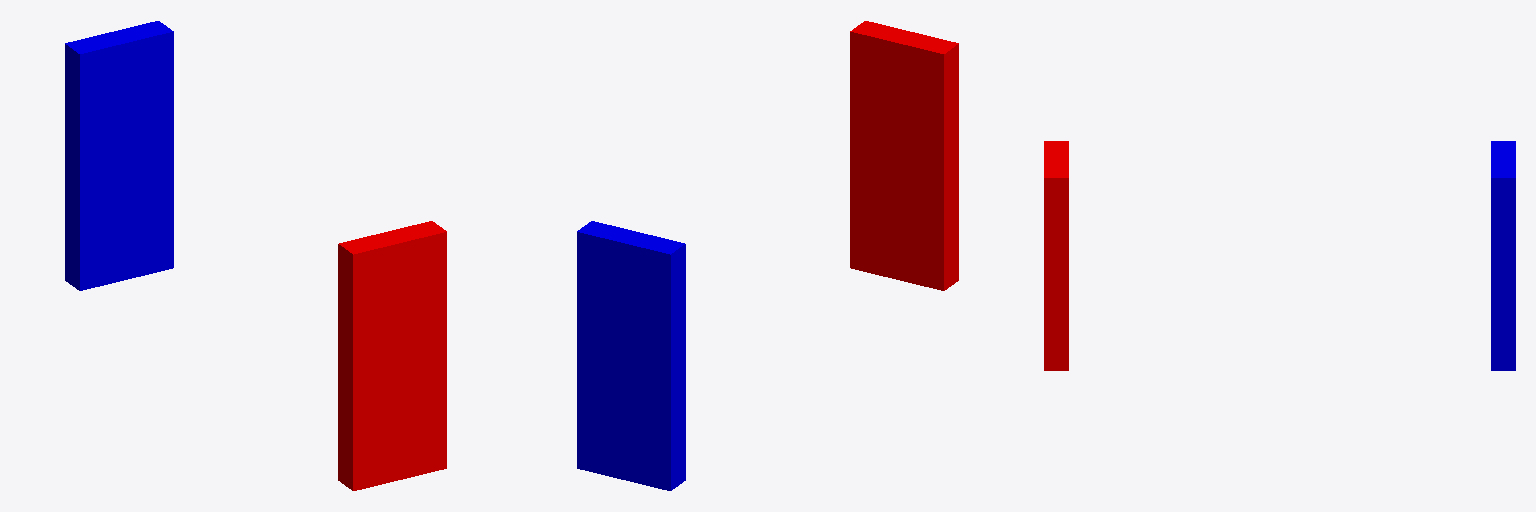
robot.urdf — franka_robotiq_140:
<?xml version="1.0" ?>
<!-- =================================================================================== -->
<!-- |    This document was autogenerated by xacro from sisbot.xacro                   | -->
<!-- |    EDITING THIS FILE BY HAND IS NOT RECOMMENDED                                 | -->
<!-- =================================================================================== -->
<robot name="franka_robotiq_140" xmlns:xacro="http://ros.org/wiki/xacro">
  <!--################################################
  ########              arm                    #######
  ####################################################-->

  <link name="panda_link0">
  	<inertial>
      <origin rpy="0 0 0" xyz="0 0 0.05"/>
       <mass value="2.9"/>
       <inertia ixx="0.1" ixy="0" ixz="0" iyy="0.1" iyz="0" izz="0.1"/>
    </inertial>
    <visual>
      <geometry>
        <mesh filename="package://meshes/collision/link0.obj"/>
      </geometry>
      <material name="panda_white">
    		<color rgba="1. 1. 1. 1."/>
  		</material>
    </visual>
    <collision>
      <geometry>
        <mesh filename="package://meshes/collision/link0.obj"/>
      </geometry>
      <material name="panda_white"/>
    </collision>
  </link>
  <link name="panda_link1">
  	<inertial>
      <origin rpy="0 0 0" xyz="0 -0.04 -0.05"/>
       <mass value="2.7"/>
       <inertia ixx="0.1" ixy="0" ixz="0" iyy="0.1" iyz="0" izz="0.1"/>
    </inertial>
    <visual>
      <geometry>
        <mesh filename="package://meshes/visual/link1.obj"/>
      </geometry>
      <material name="panda_white"/>
    </visual>
    <collision>
      <geometry>
        <mesh filename="package://meshes/collision/link1.obj"/>
      </geometry>
      <material name="panda_white"/>
    </collision>
  </link>
  <joint name="panda_joint1" type="revolute">
    <safety_controller k_position="100.0" k_velocity="40.0" soft_lower_limit="-2.8973" soft_upper_limit="2.8973"/>
    <origin rpy="0 0 0" xyz="0 0 0.333"/>
    <parent link="panda_link0"/>
    <child link="panda_link1"/>
    <axis xyz="0 0 1"/>
    <limit effort="87" lower="-2.9671" upper="2.9671" velocity="2.1750"/>
  </joint>
  <link name="panda_link2">
  	<inertial>
      <origin rpy="0 0 0" xyz="0 -0.04 0.06"/>
       <mass value="2.73"/>
       <inertia ixx="0.1" ixy="0" ixz="0" iyy="0.1" iyz="0" izz="0.1"/>
    </inertial>
    <visual>
      <geometry>
        <mesh filename="package://meshes/visual/link2.obj"/>
      </geometry>
      <material name="panda_white"/>
    </visual>
    <collision>
      <geometry>
        <mesh filename="package://meshes/collision/link2.obj"/>
      </geometry>
      <material name="panda_white"/>
    </collision>
  </link>
  <joint name="panda_joint2" type="revolute">
    <safety_controller k_position="100.0" k_velocity="40.0" soft_lower_limit="-1.7628" soft_upper_limit="1.7628"/>
    <origin rpy="-1.57079632679 0 0" xyz="0 0 0"/>
    <parent link="panda_link1"/>
    <child link="panda_link2"/>
    <axis xyz="0 0 1"/>
    <limit effort="87" lower="-1.8326" upper="1.8326" velocity="2.1750"/>
  </joint>
  <link name="panda_link3">
	  <inertial>
      <origin rpy="0 0 0" xyz="0.01 0.01 -0.05"/>
       <mass value="2.04"/>
       <inertia ixx="0.1" ixy="0" ixz="0" iyy="0.1" iyz="0" izz="0.1"/>
    </inertial>
    <visual>
      <geometry>
        <mesh filename="package://meshes/visual/link3.obj"/>
      </geometry>
      <material name="panda_red">
    		<color rgba="1. 1. 1. 1."/>
  		</material>
    </visual>
    <collision>
      <geometry>
        <mesh filename="package://meshes/collision/link3.obj"/>
      </geometry>
    </collision>
  </link>
  <joint name="panda_joint3" type="revolute">
    <safety_controller k_position="100.0" k_velocity="40.0" soft_lower_limit="-2.8973" soft_upper_limit="2.8973"/>
    <origin rpy="1.57079632679 0 0" xyz="0 -0.316 0"/>
    <parent link="panda_link2"/>
    <child link="panda_link3"/>
    <axis xyz="0 0 1"/>
    <limit effort="87" lower="-2.9671" upper="2.9671" velocity="2.1750"/>
  </joint>
  <link name="panda_link4">
  	<inertial>
      <origin rpy="0 0 0" xyz="-0.03 0.03 0.02"/>
       <mass value="2.08"/>
       <inertia ixx="0.1" ixy="0" ixz="0" iyy="0.1" iyz="0" izz="0.1"/>
    </inertial>
    <visual>
      <geometry>
        <mesh filename="package://meshes/visual/link4.obj"/>
      </geometry>
      <material name="panda_white"/>
    </visual>
    <collision>
      <geometry>
        <mesh filename="package://meshes/collision/link4.obj"/>
      </geometry>
      <material name="panda_white"/>
    </collision>
  </link>
  <joint name="panda_joint4" type="revolute">
    <safety_controller k_position="100.0" k_velocity="40.0" soft_lower_limit="-3.0718" soft_upper_limit="-0.0698"/>
    <origin rpy="1.57079632679 0 0" xyz="0.0825 0 0"/>
    <parent link="panda_link3"/>
    <child link="panda_link4"/>
    <axis xyz="0 0 1"/>
    <limit effort="87" lower="-3.1416" upper="0.0" velocity="2.1750"/>
  </joint>
  <link name="panda_link5">
  	<inertial>
      <origin rpy="0 0 0" xyz="0 0.04 -0.12"/>
       <mass value="3"/>
       <inertia ixx="0.1" ixy="0" ixz="0" iyy="0.1" iyz="0" izz="0.1"/>
    </inertial>
    <visual>
      <geometry>
        <mesh filename="package://meshes/visual/link5.obj"/>
      </geometry>
      <material name="panda_white"/>
    </visual>
    <collision>
      <geometry>
        <mesh filename="package://meshes/collision/link5.obj"/>
      </geometry>
      <material name="panda_white"/>
    </collision>
  </link>
  <joint name="panda_joint5" type="revolute">
    <safety_controller k_position="100.0" k_velocity="40.0" soft_lower_limit="-2.8973" soft_upper_limit="2.8973"/>
    <origin rpy="-1.57079632679 0 0" xyz="-0.0825 0.384 0"/>
    <parent link="panda_link4"/>
    <child link="panda_link5"/>
    <axis xyz="0 0 1"/>
    <limit effort="12" lower="-2.9671" upper="2.9671" velocity="2.6100"/>
  </joint>
  <link name="panda_link6">
  	<inertial>
      <origin rpy="0 0 0" xyz="0.04 0 0"/>
       <mass value="1.3"/>
       <inertia ixx="0.1" ixy="0" ixz="0" iyy="0.1" iyz="0" izz="0.1"/>
    </inertial>
    <visual>
      <geometry>
        <mesh filename="package://meshes/visual/link6.obj"/>
      </geometry>
      <material name="panda_white"/>
    </visual>
    <collision>
      <geometry>
        <mesh filename="package://meshes/collision/link6.obj"/>
      </geometry>
      <material name="panda_white"/>
    </collision>
  </link>
  <joint name="panda_joint6" type="revolute">
    <safety_controller k_position="100.0" k_velocity="40.0" soft_lower_limit="-0.0175" soft_upper_limit="3.7525"/>
    <origin rpy="1.57079632679 0 0" xyz="0 0 0"/>
    <parent link="panda_link5"/>
    <child link="panda_link6"/>
    <axis xyz="0 0 1"/>
    <limit effort="12" lower="-0.0873" upper="3.8223" velocity="2.6100"/>
  </joint>
  <link name="panda_link7">
  	<inertial>
      <origin rpy="0 0 0" xyz="0 0 0.08"/>
       <mass value=".2"/>
       <inertia ixx="0.1" ixy="0" ixz="0" iyy="0.1" iyz="0" izz="0.1"/>
    </inertial>
    <visual>
      <geometry>
        <mesh filename="package://meshes/collision/link7.obj"/>
      </geometry>
      <material name="panda_white"/>
    </visual>
    <collision>
      <geometry>
        <mesh filename="package://meshes/collision/link7.obj"/>
      </geometry>
      <material name="panda_white"/>
    </collision>
  </link>
  <joint name="panda_joint7" type="revolute">
    <safety_controller k_position="100.0" k_velocity="40.0" soft_lower_limit="-2.8973" soft_upper_limit="2.8973"/>
    <origin rpy="1.57079632679 0 0" xyz="0.088 0 0"/>
    <parent link="panda_link6"/>
    <child link="panda_link7"/>
    <axis xyz="0 0 1"/>
    <limit effort="12" lower="-2.9671" upper="2.9671" velocity="2.6100"/>
  </joint>
  <link name="panda_link8">
  	 <inertial>
      <origin rpy="0 0 0" xyz="0 0 0"/>
       <mass value="0.0"/>
       <inertia ixx="0.1" ixy="0" ixz="0" iyy="0.1" iyz="0" izz="0.1"/>
    </inertial>
  </link>
  <joint name="panda_joint8" type="fixed">
    <origin rpy="0 0 0" xyz="0 0 0.107"/>
    <parent link="panda_link7"/>
    <child link="panda_link8"/>
    <axis xyz="0 0 0"/>
  </joint>



  <!--################################################
  ########              gripper                  #####
  ####################################################-->

  <link name="robotiq_arg2f_base_link">
    <inertial>
      <origin rpy="0 0 0" xyz="8.625E-08 -4.6583E-06 0.03145"/>
      <mass value="0.22652"/>
      <inertia ixx="0.00020005" ixy="-4.2442E-10" ixz="-2.9069E-10" iyy="0.00017832" iyz="-3.4402E-08" izz="0.00013478"/>
    </inertial>
    <visual>
      <origin rpy="0 0 0" xyz="0 0 0"/>
      <geometry>
        <mesh filename="../meshes/robotiq_140/visual/robotiq_arg2f_base_link.stl"/>
      </geometry>
      <material name="">
        <color rgba="0.1 0.1 0.1 1"/>
      </material>
    </visual>
    <collision>
      <origin rpy="0 0 0" xyz="0 0 0"/>
      <geometry>
        <mesh filename="../meshes/robotiq_140/collision/robotiq_arg2f_base_link.stl"/>
      </geometry>
    </collision>
  </link>
  <link name="left_outer_knuckle">
    <inertial>
      <origin rpy="0 0 0" xyz="-0.000200000000003065 0.0199435877845359 0.0292245259211331"/>
      <mass value="0.00853198276973456"/>
      <inertia ixx="2.89328108496468E-06" ixy="-1.57935047237397E-19" ixz="-1.93980378593255E-19" iyy="1.86719750325683E-06" iyz="-1.21858577871576E-06" izz="1.21905238907251E-06"/>
    </inertial>
    <visual>
      <origin rpy="0 0 0" xyz="0 0 0"/>
      <geometry>
        <mesh filename="../meshes/robotiq_140/visual/robotiq_arg2f_140_outer_knuckle.stl"/>
      </geometry>
      <material name="">
        <color rgba="0.792156862745098 0.819607843137255 0.933333333333333 0.1"/>
      </material>
    </visual>
    <collision>
      <origin rpy="0 0 0" xyz="0 0 0"/>
      <geometry>
        <mesh filename="../meshes/robotiq_140/collision/robotiq_arg2f_140_outer_knuckle.stl"/>
      </geometry>
    </collision>
  </link>
  <link name="left_outer_finger">
    <inertial>
      <origin rpy="0 0 0" xyz="0.00030115855001899 0.0373907951953854 -0.0208027427000385"/>
      <mass value="0.022614240507152"/>
      <inertia ixx="1.52518312458174E-05" ixy="9.76583423954399E-10" ixz="-5.43838577022588E-10" iyy="6.17694243867776E-06" iyz="6.78636130740228E-06" izz="1.16494917907219E-05"/>
    </inertial>
    <visual>
      <origin rpy="0 0 0" xyz="0 0 0"/>
      <geometry>
        <mesh filename="../meshes/robotiq_140/visual/robotiq_arg2f_140_outer_finger.stl"/>
      </geometry>
      <material name="">
        <color rgba="0.1 0.1 0.1 0.2"/>
      </material>
    </visual>
    <collision>
      <origin rpy="0 0 0" xyz="0 0 0"/>
      <geometry>
        <mesh filename="../meshes/robotiq_140/collision/robotiq_arg2f_140_outer_finger.stl"/>
      </geometry>
    </collision>
  </link>
  <link name="left_inner_finger">
    <inertial>
      <origin rpy="0 0 0" xyz="0.000299999999999317 0.0160078233491243 -0.0136945669206257"/>
      <mass value="0.0104003125914103"/>
      <inertia ixx="2.71909453810972E-06" ixy="1.35402465472579E-21" ixz="-7.1817349065269E-22" iyy="7.69100314106116E-07" iyz="6.74715432769696E-07" izz="2.30315190420171E-06"/>
    </inertial>
    <visual>
      <origin rpy="0 0 0" xyz="0 0 0"/>
      <geometry>
        <mesh filename="../meshes/robotiq_140/visual/robotiq_arg2f_140_inner_finger.stl"/>
      </geometry>
      <material name="Green">
        <color rgba="0.9 0.7 0.2 0.3"/>
      </material>
    </visual>
    <collision>
      <origin rpy="0 0 0" xyz="0 0 0"/>
      <geometry>
        <mesh filename="../meshes/robotiq_140/collision/robotiq_arg2f_140_inner_finger.stl"/>
      </geometry>
    </collision>
  </link>
  <link name="left_inner_finger_pad">
    <inertial>
      <mass value="1."/>
      <inertia ixx="1E-10" ixy="1E-10" ixz="1E-10" iyy="1E-10" iyz="1E-10" izz="1E-10"/>
    </inertial>

    <visual>
      <origin rpy="0 0 0" xyz="0 0 0"/>
      <geometry>
        <box size="0.027 0.065 0.0075"/>
      </geometry>
      <material name="">
        <color rgba="0 0 1 1"/>
      </material>
    </visual>
    <collision>
      <origin rpy="0 0 0" xyz="0 0 0"/>
      <geometry>
        <box size="0.03 0.07 0.0075"/>
      </geometry>
      <material name="">
        <color rgba="0.9 0.0 0.0 1"/>
      </material>
    </collision>
  </link>
  <link name="left_inner_knuckle">
    <inertial>
      <origin rpy="0 0 0" xyz="0.000123011831763771 0.0507850843201817 0.00103968640075166"/>
      <mass value="0.0271177346495152"/>
      <inertia ixx="2.61910379223783E-05" ixy="-2.43616858946494E-07" ixz="-6.37789906117123E-09" iyy="2.8270243746167E-06" iyz="-5.37200748039765E-07" izz="2.83695868220296E-05"/>
    </inertial>
    <visual>
      <origin rpy="0 0 0" xyz="0 0 0"/>
      <geometry>
        <mesh filename="../meshes/robotiq_140/visual/robotiq_arg2f_140_inner_knuckle.stl"/>
      </geometry>
      <material name="">
        <color rgba="0.1 0.1 0.1 1"/>
      </material>
    </visual>
    <collision>
      <origin rpy="0 0 0" xyz="0 0 0"/>
      <geometry>
        <mesh filename="../meshes/robotiq_140/collision/robotiq_arg2f_140_inner_knuckle.stl"/>
      </geometry>
    </collision>
  </link>
  <link name="right_outer_knuckle">
    <inertial>
      <origin rpy="0 0 0" xyz="-0.000200000000003065 0.0199435877845359 0.0292245259211331"/>
      <mass value="0.00853198276973456"/>
      <inertia ixx="2.89328108496468E-06" ixy="-1.57935047237397E-19" ixz="-1.93980378593255E-19" iyy="1.86719750325683E-06" iyz="-1.21858577871576E-06" izz="1.21905238907251E-06"/>
    </inertial>
    <visual>
      <origin rpy="0 0 0" xyz="0 0 0"/>
      <geometry>
        <mesh filename="../meshes/robotiq_140/visual/robotiq_arg2f_140_outer_knuckle.stl"/>
      </geometry>
      <material name="">
        <color rgba="0.792156862745098 0.819607843137255 0.933333333333333 1"/>
      </material>
    </visual>
    <collision>
      <origin rpy="0 0 0" xyz="0 0 0"/>
      <geometry>
        <mesh filename="../meshes/robotiq_140/collision/robotiq_arg2f_140_outer_knuckle.stl"/>
      </geometry>
    </collision>
  </link>
  <link name="right_outer_finger">
    <inertial>
      <origin rpy="0 0 0" xyz="0.00030115855001899 0.0373907951953854 -0.0208027427000385"/>
      <mass value="0.022614240507152"/>
      <inertia ixx="1.52518312458174E-05" ixy="9.76583423954399E-10" ixz="-5.43838577022588E-10" iyy="6.17694243867776E-06" iyz="6.78636130740228E-06" izz="1.16494917907219E-05"/>
    </inertial>
    <visual>
      <origin rpy="0 0 0" xyz="0 0 0"/>
      <geometry>
        <mesh filename="../meshes/robotiq_140/visual/robotiq_arg2f_140_outer_finger.stl"/>
      </geometry>
      <material name="">
        <color rgba="0.1 0.1 0.1 1"/>
      </material>
    </visual>
    <collision>
      <origin rpy="0 0 0" xyz="0 0 0"/>
      <geometry>
        <mesh filename="../meshes/robotiq_140/collision/robotiq_arg2f_140_outer_finger.stl"/>
      </geometry>
    </collision>
  </link>
  <link name="right_inner_finger">
    <inertial>
      <origin rpy="0 0 0" xyz="0.000299999999999317 0.0160078233491243 -0.0136945669206257"/>
      <mass value="0.0104003125914103"/>
      <inertia ixx="2.71909453810972E-06" ixy="1.35402465472579E-21" ixz="-7.1817349065269E-22" iyy="7.69100314106116E-07" iyz="6.74715432769696E-07" izz="2.30315190420171E-06"/>
    </inertial>
    <visual>
      <origin rpy="0 0 0" xyz="0 0 0"/>
      <geometry>
        <mesh filename="../meshes/robotiq_140/visual/robotiq_arg2f_140_inner_finger.stl"/>
      </geometry>
      <material name="Yellow">
        <color rgba="0.2 0.7 0.2 1"/>
      </material>
    </visual>
    <collision>
      <origin rpy="0 0 0" xyz="0 0 0"/>
      <geometry>
        <mesh filename="../meshes/robotiq_140/collision/robotiq_arg2f_140_inner_finger.stl"/>
      </geometry>
    </collision>
  </link>
  <link name="right_inner_finger_pad">
    <inertial>
      <mass value="1."/>
      <inertia ixx="1E-10" ixy="1E-10" ixz="1E-10" iyy="1E-10" iyz="1E-10" izz="1E-10"/>
    </inertial>

    <visual>
      <origin rpy="0 0 0" xyz="0 0 0"/>
      <geometry>
        <box size="0.027 0.065 0.0075"/>
      </geometry>
      <material name="">
        <color rgba="1 0 0 1"/>
      </material>
    </visual>
    <collision>
      <origin rpy="0 0 0" xyz="0 0 0"/>
      <geometry>
        <box size="0.03 0.07 0.0075"/>
      </geometry>
      <material name="">
        <color rgba="0.9 0.0 0.0 1"/>
      </material>
    </collision>
  </link>
  <link name="right_inner_knuckle">
    <inertial>
      <origin rpy="0 0 0" xyz="0.000123011831763771 0.0507850843201817 0.00103968640075166"/>
      <mass value="0.0271177346495152"/>
      <inertia ixx="2.61910379223783E-05" ixy="-2.43616858946494E-07" ixz="-6.37789906117123E-09" iyy="2.8270243746167E-06" iyz="-5.37200748039765E-07" izz="2.83695868220296E-05"/>
    </inertial>
    <visual>
      <origin rpy="0 0 0" xyz="0 0 0"/>
      <geometry>
        <mesh filename="../meshes/robotiq_140/visual/robotiq_arg2f_140_inner_knuckle.stl"/>
      </geometry>
      <material name="">
        <color rgba="0.1 0.1 0.1 1"/>
      </material>
    </visual>
    <collision>
      <origin rpy="0 0 0" xyz="0 0 0"/>
      <geometry>
        <mesh filename="../meshes/robotiq_140/collision/robotiq_arg2f_140_inner_knuckle.stl"/>
      </geometry>
    </collision>
  </link>
  <joint name="finger_joint" type="revolute">
    <origin rpy="2.2957963267948966 0 0" xyz="0 -0.030601 0.054905"/>
    <parent link="robotiq_arg2f_base_link"/>
    <child link="left_outer_knuckle"/>
    <axis xyz="-1 0 0"/>
    <limit effort="1000" lower="0" upper="0.7" velocity="2.0"/>
  </joint>
  <joint name="left_outer_finger_joint" type="fixed">
    <origin rpy="0 0 0" xyz="0 0.01821998610742 0.0260018192872234"/>
    <parent link="left_outer_knuckle"/>
    <child link="left_outer_finger"/>
    <axis xyz="1 0 0"/>
  </joint>
  <joint name="left_inner_knuckle_joint" type="revolute">
    <origin rpy="2.2957963267948966 0 0.0" xyz="0 -0.0127 0.06142"/>
    <parent link="robotiq_arg2f_base_link"/>
    <child link="left_inner_knuckle"/>
    <axis xyz="1 0 0"/>
    <limit effort="1000" upper="0" lower="-0.8757" velocity="2.0"/>
    <mimic joint="finger_joint" multiplier="-1" offset="0"/>
  </joint>
  <joint name="left_inner_finger_joint" type="revolute">
    <origin rpy="-0.725 0 0" xyz="0 0.0817554015893473 -0.0282203446692936"/>
    <parent link="left_outer_finger"/>
    <child link="left_inner_finger"/>
    <axis xyz="1 0 0"/>
    <limit effort="1000" lower="0" upper="0.8757" velocity="2.0"/>
    <mimic joint="finger_joint" multiplier="1" offset="0"/>
  </joint>
  <joint name="left_inner_finger_pad_joint" type="fixed">
    <origin rpy="0 0 0" xyz="0 0.0457554015893473 -0.0272203446692936"/>
    <parent link="left_inner_finger"/>
    <child link="left_inner_finger_pad"/>
    <axis xyz="0 0 1"/>
  </joint>
  <joint name="right_outer_knuckle_joint" type="revolute">
    <origin rpy="2.2957963267948966 0 3.141592653589793" xyz="0 0.030601 0.054905"/>
    <parent link="robotiq_arg2f_base_link"/>
    <child link="right_outer_knuckle"/>
    <axis xyz="1 0 0"/>
    <limit effort="1000" upper="0" lower="-0.725" velocity="2.0"/>
    <mimic joint="finger_joint" multiplier="-1" offset="0"/>
  </joint>
  <joint name="right_outer_finger_joint" type="fixed">
    <origin rpy="0 0 0" xyz="0 0.01821998610742 0.0260018192872234"/>
    <parent link="right_outer_knuckle"/>
    <child link="right_outer_finger"/>
    <axis xyz="1 0 0"/>
  </joint>
  <joint name="right_inner_knuckle_joint" type="revolute">
    <origin rpy="2.2957963267948966 0 -3.141592653589793" xyz="0 0.0127 0.06142"/>
    <parent link="robotiq_arg2f_base_link"/>
    <child link="right_inner_knuckle"/>
    <axis xyz="1 0 0"/>
    <limit effort="1000" upper="0" lower="-0.8757" velocity="2.0"/>
    <mimic joint="finger_joint" multiplier="-1" offset="0"/>
  </joint>
  <joint name="right_inner_finger_joint" type="revolute">
    <origin rpy="-0.725 0 0" xyz="0 0.0817554015893473 -0.0282203446692936"/>
    <parent link="right_outer_finger"/>
    <child link="right_inner_finger"/>
    <axis xyz="1 0 0"/>
    <limit effort="1000" lower="0" upper="0.8757" velocity="2.0"/>
    <mimic joint="finger_joint" multiplier="1" offset="0"/>
  </joint>
  <joint name="right_inner_finger_pad_joint" type="fixed">
    <origin rpy="0 0 0" xyz="0 0.0457554015893473 -0.0272203446692936"/>
    <parent link="right_inner_finger"/>
    <child link="right_inner_finger_pad"/>
    <axis xyz="0 0 1"/>
  </joint>
<!--  <transmission name="finger_joint_trans">-->
<!--    <type>transmission_interface/SimpleTransmission</type>-->
<!--    <joint name="finger_joint">-->
<!--      <hardwareInterface>PositionJointInterface</hardwareInterface>-->
<!--    </joint>-->
<!--    <actuator name="finger_joint_motor">-->
<!--      <mechanicalReduction>1</mechanicalReduction>-->
<!--    </actuator>-->
<!--  </transmission>-->

<!--################################################
  ########          connect model                #####
  ####################################################-->

  <link name="world"/>
  <!-- connect gripper to arm -->
  <joint name="arm_gripper_joint" type="fixed">
    <parent link="panda_link8"/>
    <child link="robotiq_arg2f_base_link"/>
    <origin rpy="0 0 0" xyz="0.0 0.0 0.0"/>
  </joint>

  <!-- connect arm to world -->
  <joint name="world_arm_joint" type="fixed">
    <parent link="world"/>
    <child link="panda_link0"/>
    <origin rpy="0.0 0.0 0" xyz="0 0 0"/>
  </joint>


</robot>

--- What the picture shows (computed from the rendered views, not written in the file) ---
The picture shows the robot from 3 angles, left to right: view 1: azimuth 30°, elevation 25°; view 2: azimuth 150°, elevation 25°; view 3: azimuth 270°, elevation 25°; orthographic projection.
Robot: franka_robotiq_140 — 21 links, 20 joints (13 revolute, 7 fixed); root link world; default pose: all joints at 0.
Visible links, largest first — view 1: left_inner_finger_pad, right_inner_finger_pad; view 2: left_inner_finger_pad, right_inner_finger_pad; view 3: left_inner_finger_pad, right_inner_finger_pad.
Boxes of the visible links, x1,y1,x2,y2 form: left_inner_finger_pad: [65, 21, 173, 290]; right_inner_finger_pad: [338, 221, 446, 490]; left_inner_finger_pad: [577, 221, 685, 490]; right_inner_finger_pad: [850, 21, 958, 290]; left_inner_finger_pad: [1491, 141, 1515, 370]; right_inner_finger_pad: [1044, 141, 1068, 370].
Bounding box of the posed robot: 0.027 × 0.1435 × 0.065 m (x, y, z).
0 mesh visuals loaded from 13 distinct referenced files (none loaded); not drawn: 17 (reference not matched to a file when rendering).